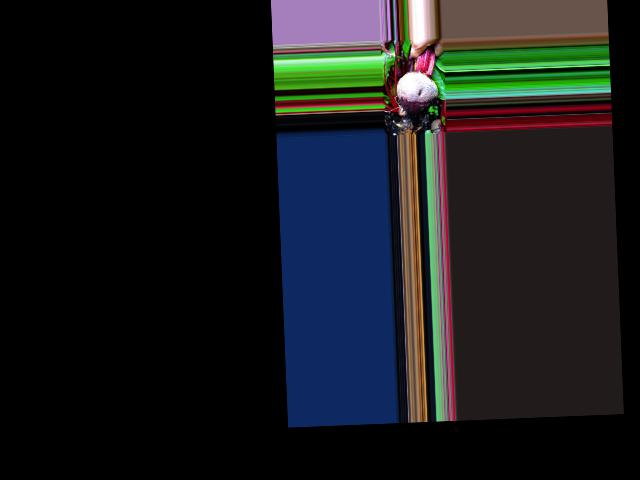beet: (394, 44, 439, 135)
